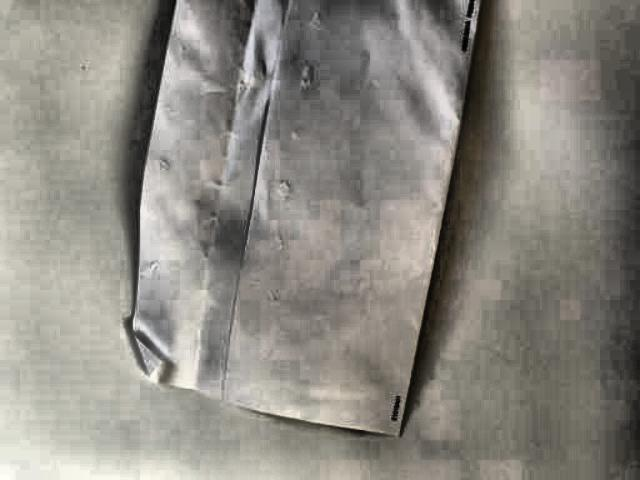Paper: (100, 0, 496, 456)
